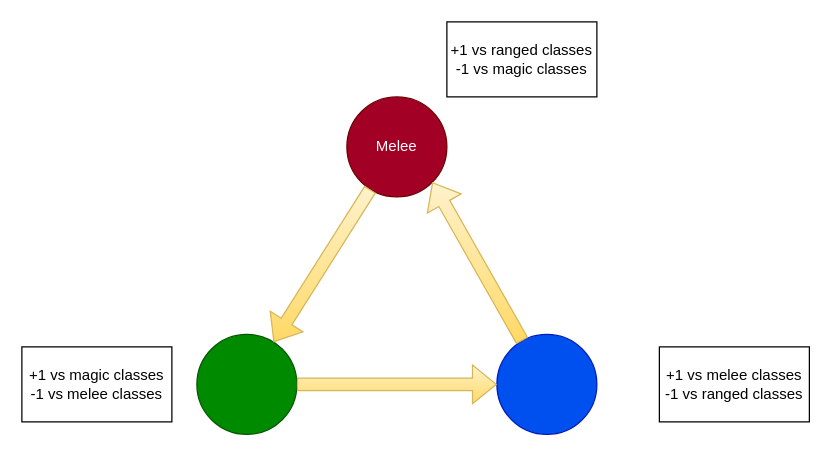
This 831x456 diagram has some shape labels left out. The shapes that lost their labels are listed below. From the top down, each one's box as (x1, y1, x2, y2) in pixels, then its label:
(196, 333, 297, 434): Ranged
(496, 333, 597, 434): Magic
